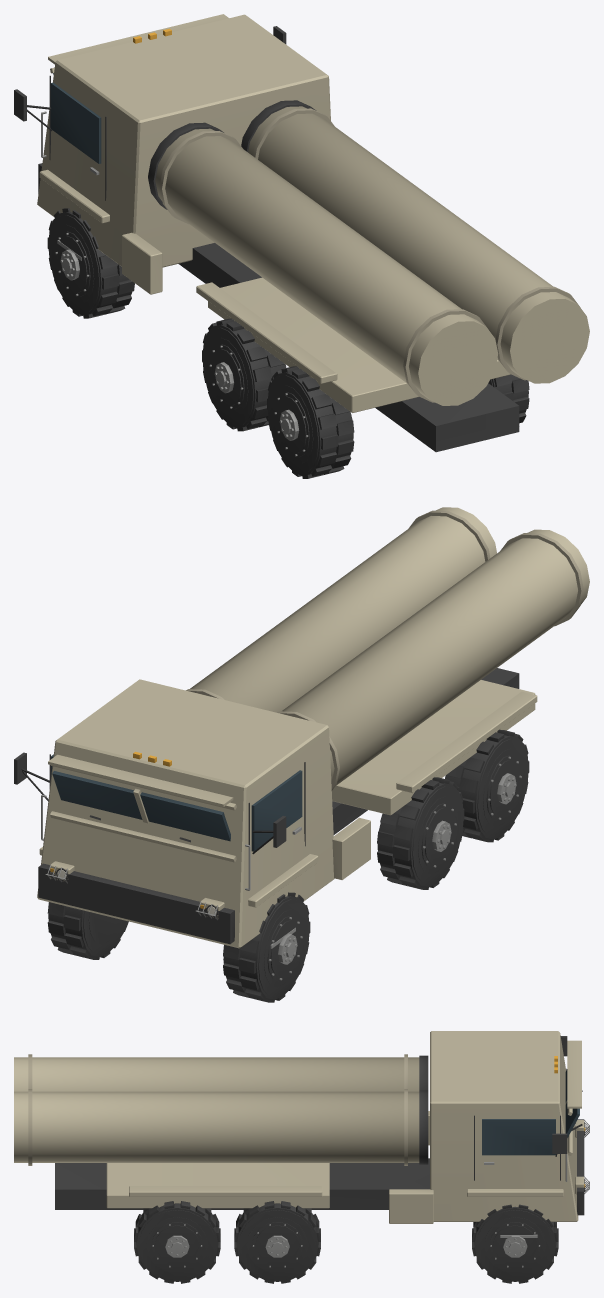
Rendered from usa_mlrs_lrhw.glb.
3 renders of one model, top to bottom at view 1: azimuth 30°, elevation 25°; view 2: azimuth 150°, elevation 25°; view 3: azimuth 270°, elevation 25°, orthographic. The views are drawn at different scales.
Visible parts, largest first — view 1: barrel, body, turret, wheel_4, wheel_2, wheel_0, wheel_5; view 2: body, barrel, turret, wheel_2, wheel_4, wheel_0, wheel_1; view 3: barrel, body, turret, wheel_5, wheel_3, wheel_1.
Part boxes in pixels (x1,y1,x2,y2): barrel: (148,100,589,405); body: (14,14,519,452); turret: (208,277,510,412); wheel_4: (267,366,354,478); wheel_2: (202,318,286,431); wheel_0: (47,208,134,318); wheel_5: (488,374,529,423); body: (14,668,537,948); barrel: (186,507,589,790); turret: (331,680,535,815); wheel_2: (377,777,464,889); wheel_4: (445,729,529,842); wheel_0: (223,892,310,1002); wheel_1: (47,902,128,959); barrel: (14,1054,428,1165); body: (55,1031,589,1237); turret: (106,1163,329,1208); wheel_5: (134,1201,220,1283); wheel_3: (234,1201,320,1283); wheel_1: (472,1204,558,1283).
Bounding box in the file's own units: 3.15 × 2.7 × 7.76.
